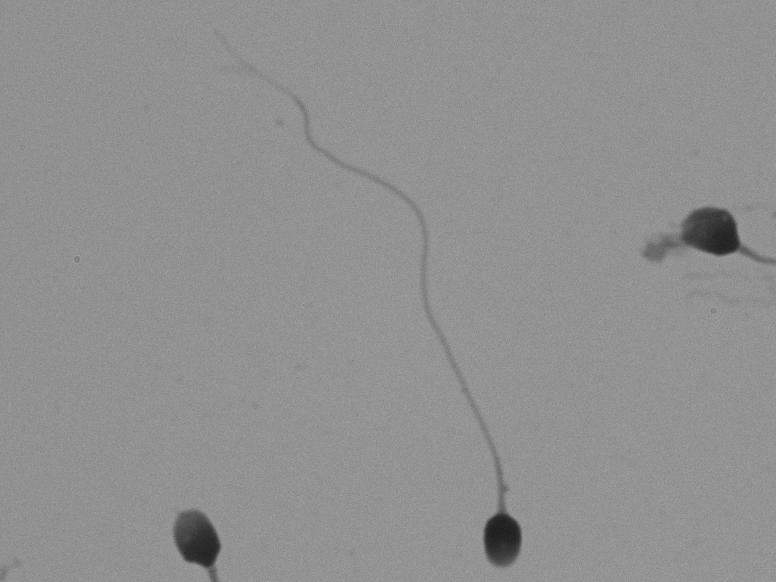Abnormal: (630, 132, 760, 331), (149, 461, 268, 575)
Normal: (236, 12, 560, 571)
